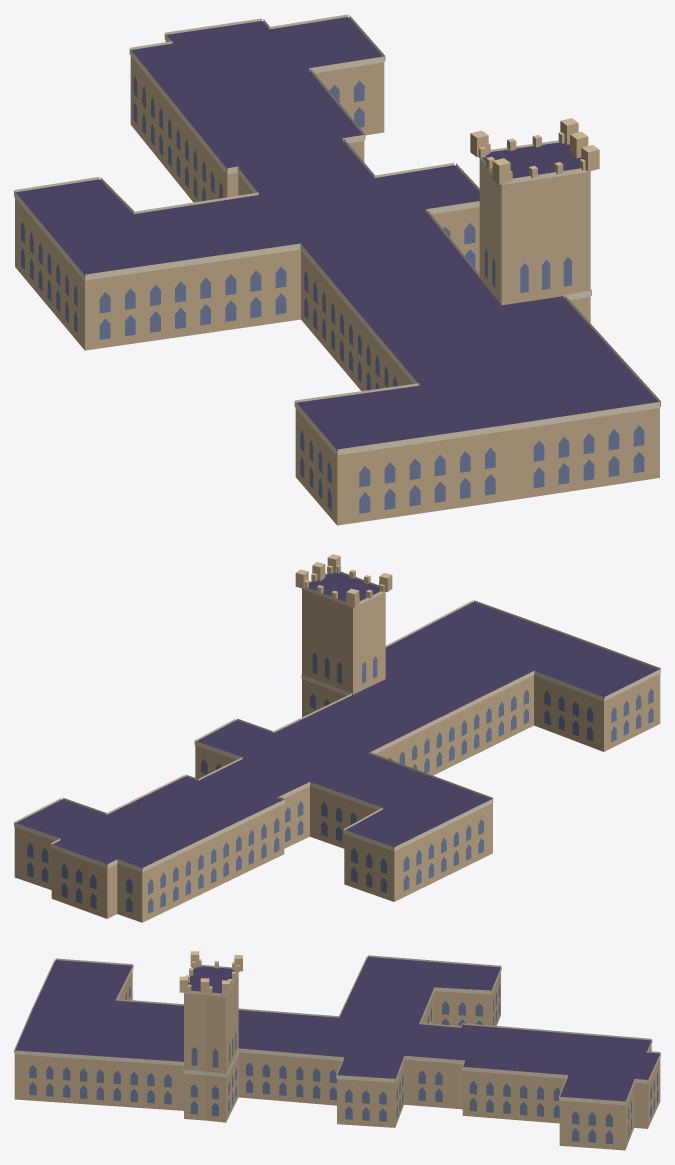
The model's file is university-college-day.glb.
The picture shows the model from 3 angles, top to bottom: view 1: azimuth 30°, elevation 25°; view 2: azimuth 150°, elevation 25°; view 3: azimuth 270°, elevation 25°; orthographic projection. The views are drawn at different scales.
Parts seen in each view (by area): view 1: university-college-day-0; view 2: university-college-day-0; view 3: university-college-day-0.
Part boxes in pixels (left/top/right/bottom): university-college-day-0: left=14, top=14, right=660, bottom=525; university-college-day-0: left=14, top=554, right=660, bottom=922; university-college-day-0: left=14, top=951, right=660, bottom=1150.
Bounding box in the file's own units: 60.72 × 27.2 × 114.
